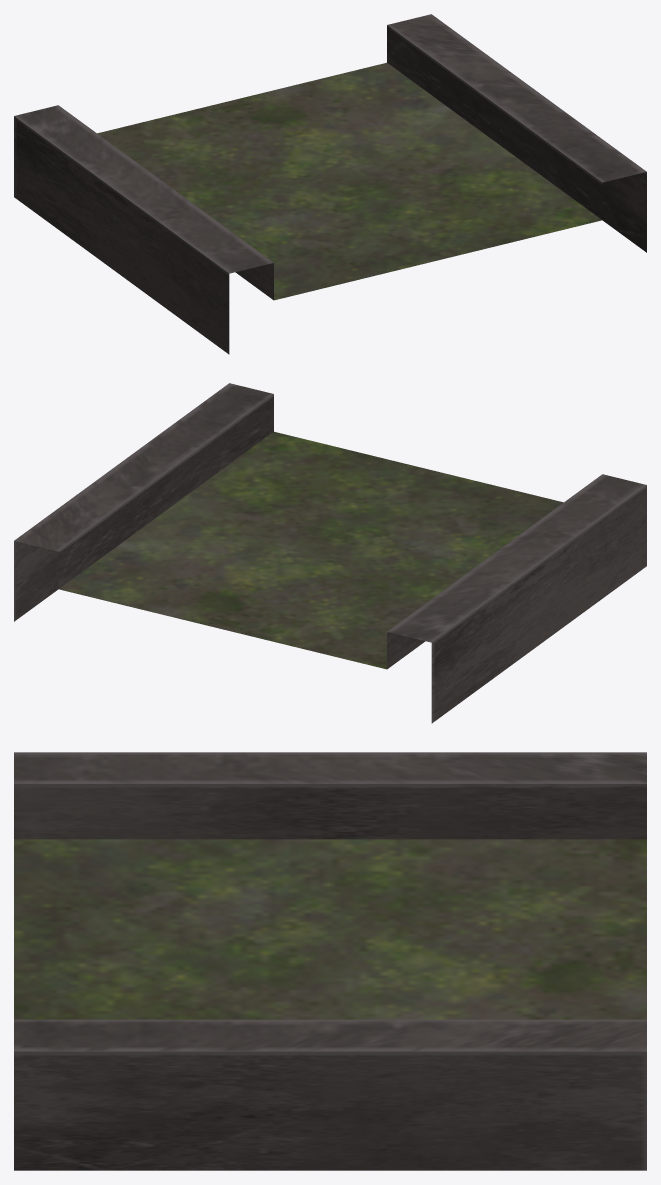
File: Modular garden 2 parallel sides.fbx
3 views of the same model, one above another, from view 1: azimuth 30°, elevation 25°; view 2: azimuth 150°, elevation 25°; view 3: azimuth 270°, elevation 25° (orthographic). The views are drawn at different scales.
Parts seen in each view (by area): view 1: Jardim vazado.001; view 2: Jardim vazado.001; view 3: Jardim vazado.001.
Boxes of the visible parts, x1=… form: Jardim vazado.001: x1=14, y1=14, x2=646, y2=354; Jardim vazado.001: x1=14, y1=383, x2=646, y2=723; Jardim vazado.001: x1=14, y1=752, x2=646, y2=1170.
Bounding box in the file's own units: 144 × 26.77 × 129.
